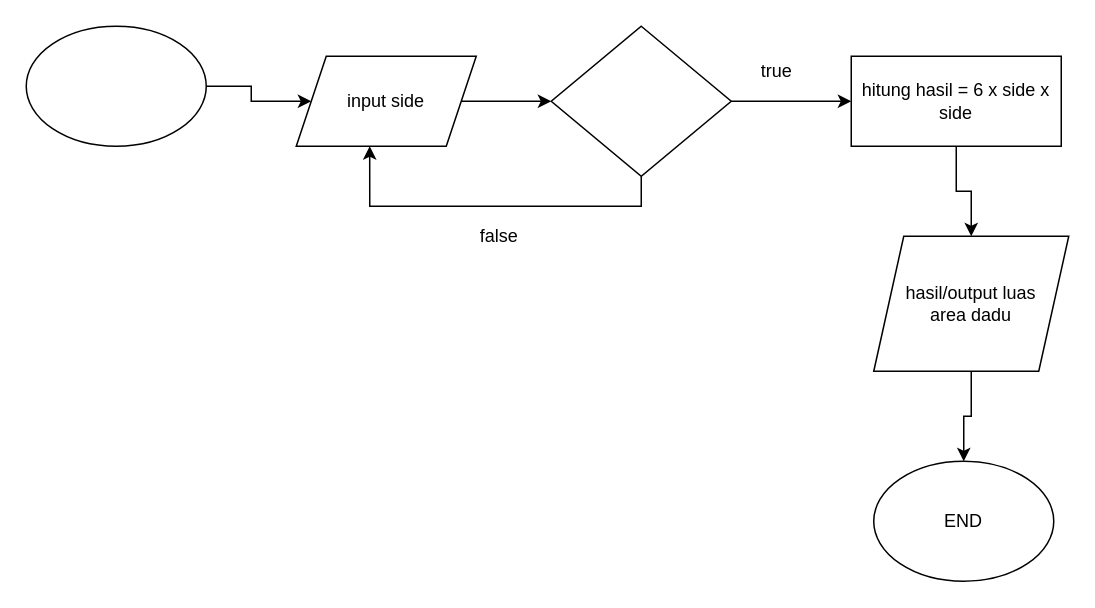
This 1095x608 diagram has some shape labels left out. The shapes that lost their labels are listed below. From the top down, each one's centre as x and y in pixels, then its label:
the point at 115,85: START
the point at 640,100: side angaka atau bukan
